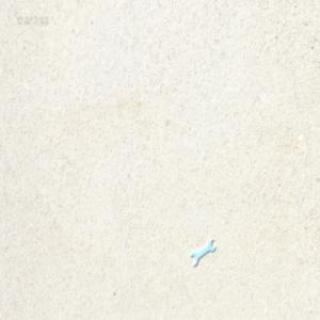Wrenchtrack_idkeyframe: (190, 236, 216, 264)
